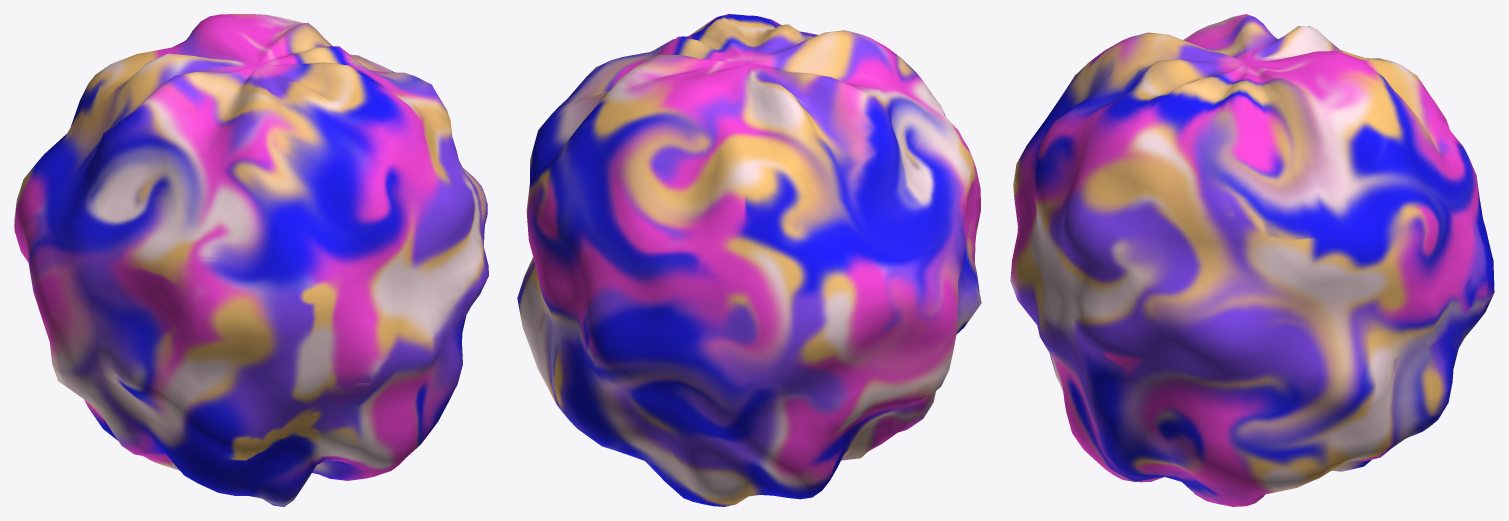
File: blob7.gltf
3 renders of one model, left to right at view 1: azimuth 30°, elevation 25°; view 2: azimuth 150°, elevation 25°; view 3: azimuth 270°, elevation 25°, orthographic.
Visible parts, largest first — view 1: Sphere; view 2: Sphere; view 3: Sphere.
Part boxes in pixels (<box>): Sphere: <box>14,14,488,506</box>; Sphere: <box>517,14,981,506</box>; Sphere: <box>1010,14,1494,506</box>.
Bounding box in the file's own units: 2.32 × 2.18 × 2.29.
1 material, 1 textured.
